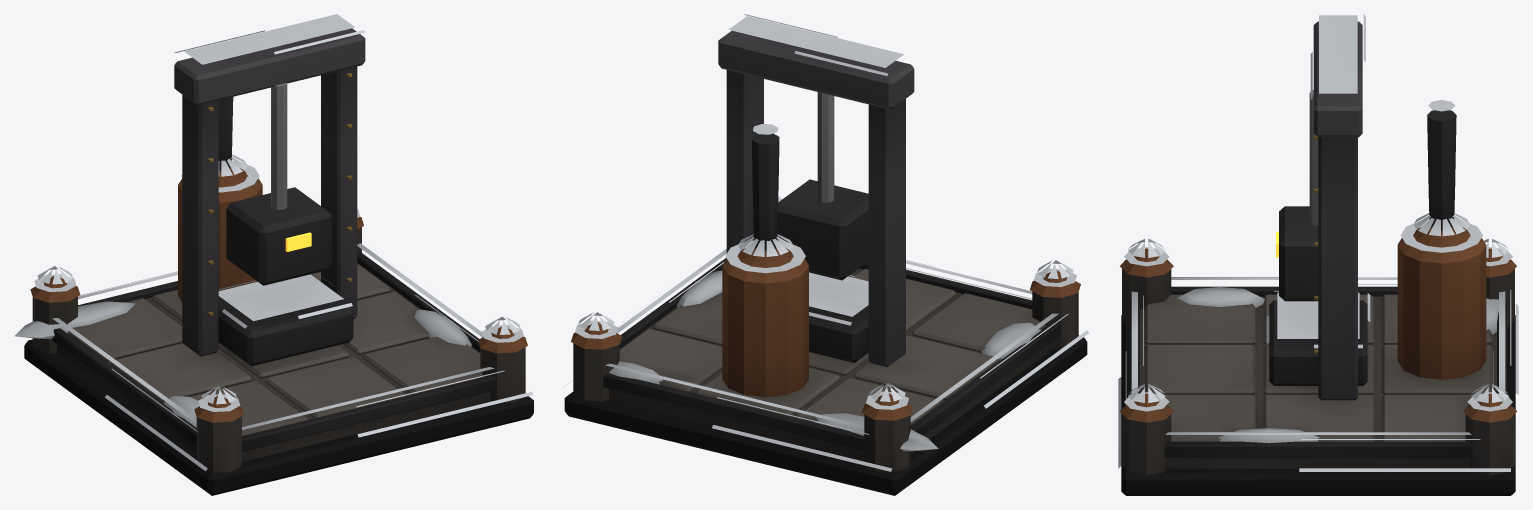
Rendered from nains-1.glb.
3 renders of one model, left to right at view 1: azimuth 30°, elevation 25°; view 2: azimuth 150°, elevation 25°; view 3: azimuth 270°, elevation 25°, orthographic. The views are drawn at different scales.
Parts seen in each view (by area): view 1: hautroc_1_architecture, Tourelle_peint; view 2: hautroc_1_architecture, Tourelle_peint; view 3: hautroc_1_architecture, Tourelle_peint.
Part boxes in pixels (bbox=[...]): hautroc_1_architecture: bbox=[14, 14, 533, 495]; Tourelle_peint: bbox=[226, 82, 331, 285]; hautroc_1_architecture: bbox=[564, 14, 1088, 495]; Tourelle_peint: bbox=[777, 92, 868, 280]; hautroc_1_architecture: bbox=[1118, 14, 1518, 495]; Tourelle_peint: bbox=[1279, 90, 1318, 301].
Size of the model in its own units: 0.8655 by 0.8058 by 0.811.
